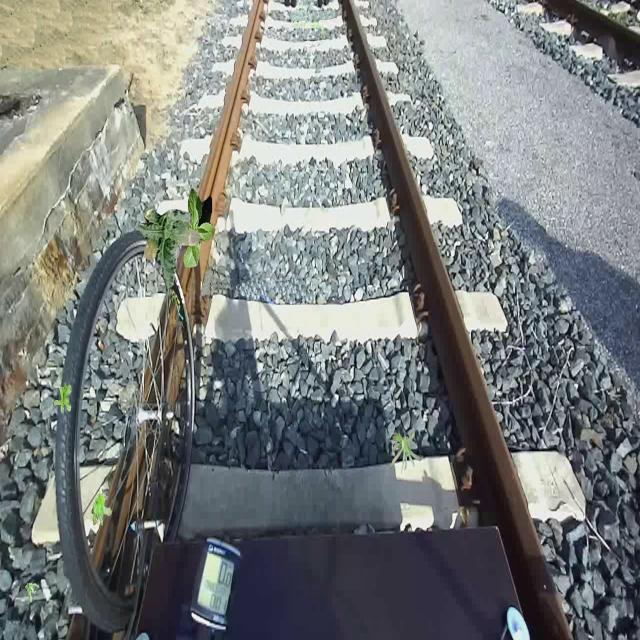Plant: (138, 209, 202, 292), (173, 188, 215, 268), (391, 429, 424, 475), (91, 493, 112, 526), (54, 382, 72, 414), (25, 583, 39, 604)
